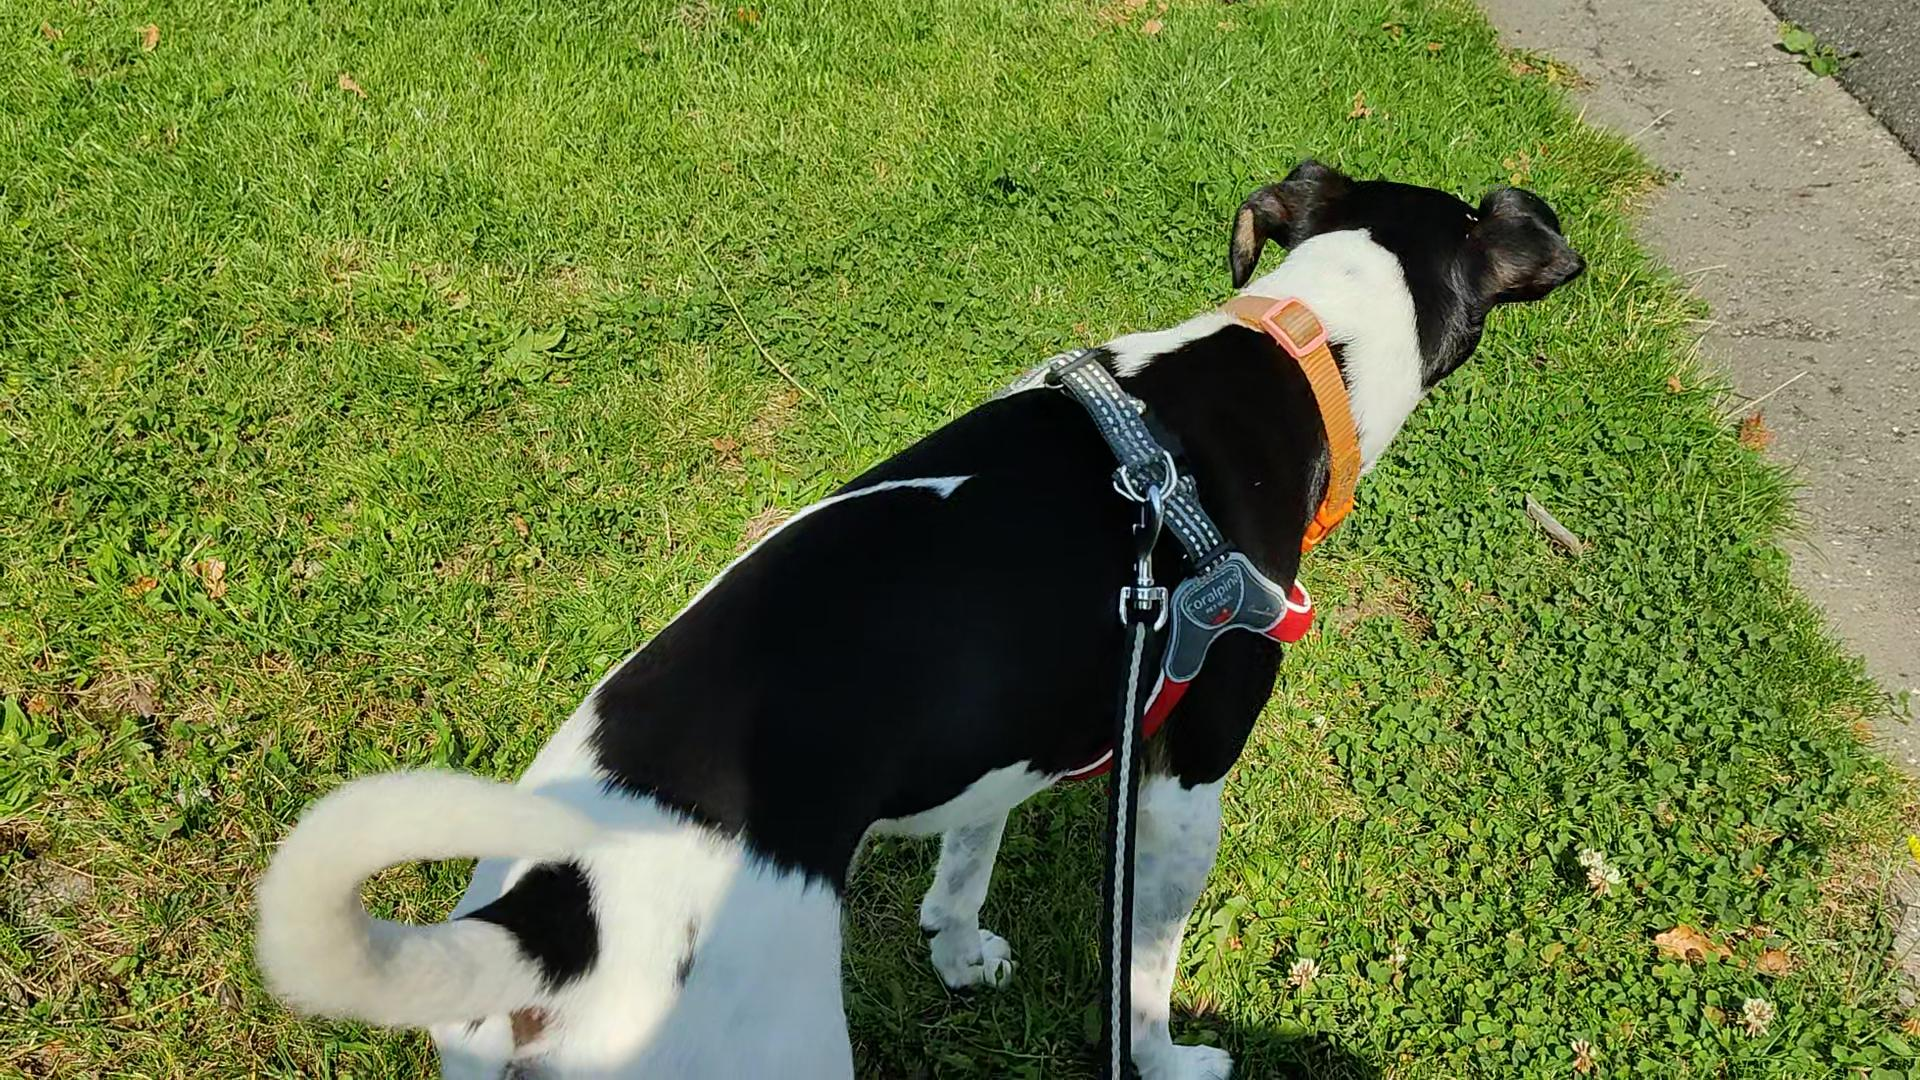Dog: (245, 150, 1597, 1079)
